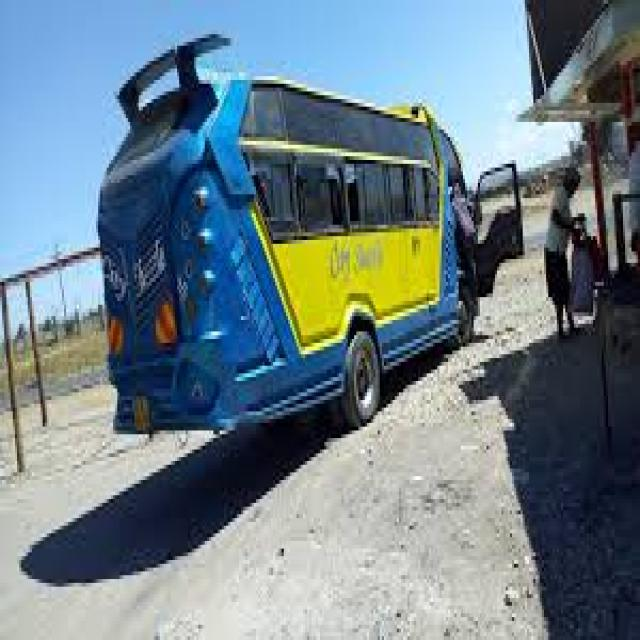bus: (67, 10, 551, 462)
